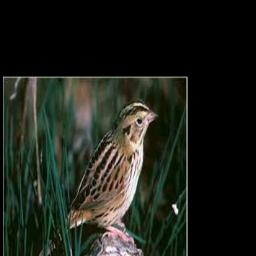Sparrow: (21, 98, 159, 256)
